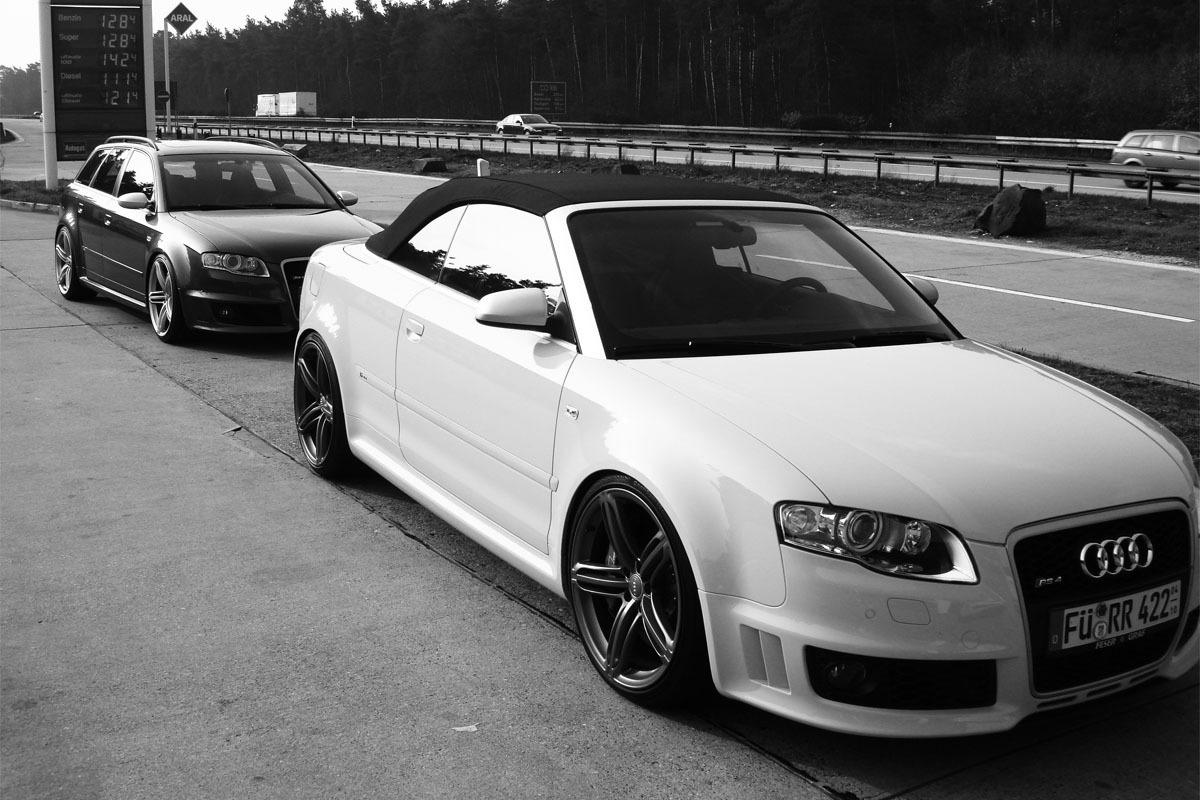car: (295, 173, 1199, 741)
